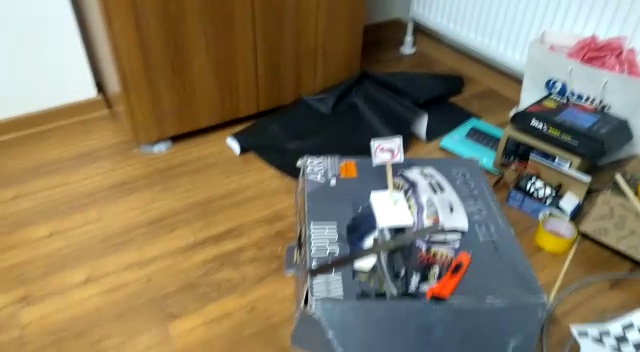sola_donulmez: (372, 138, 401, 162)
